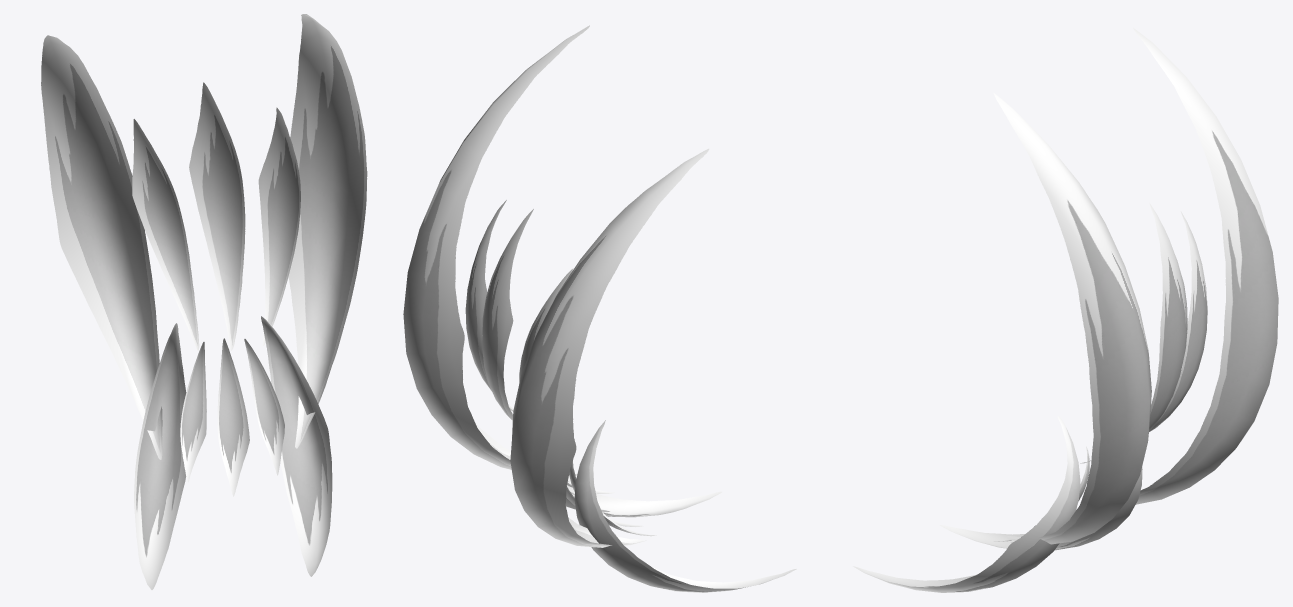
Rendered from fx_m10439_skill01.fbx.
3 views of the same model, side by side, from view 1: azimuth 30°, elevation 25°; view 2: azimuth 150°, elevation 25°; view 3: azimuth 270°, elevation 25° (orthographic).
Parts seen in each view (by area): view 1: trail_alpha_out, trail_alpha, trail_bottom_out_alpha, trail_bottom_alpha; view 2: trail_alpha_out, trail_bottom_out_alpha, trail_alpha, trail_bottom_alpha; view 3: trail_alpha_out, trail_bottom_out_alpha, trail_alpha.
Boxes of the visible parts, x1=… form: trail_alpha_out: x1=41, y1=14, x2=367, y2=459; trail_alpha: x1=132, y1=82, x2=300, y2=350; trail_bottom_out_alpha: x1=134, y1=316, x2=332, y2=589; trail_bottom_alpha: x1=180, y1=338, x2=284, y2=496; trail_alpha_out: x1=403, y1=25, x2=709, y2=547; trail_bottom_out_alpha: x1=565, y1=420, x2=796, y2=592; trail_alpha: x1=465, y1=200, x2=573, y2=420; trail_bottom_alpha: x1=566, y1=461, x2=656, y2=536; trail_alpha_out: x1=993, y1=27, x2=1278, y2=544; trail_bottom_out_alpha: x1=853, y1=416, x2=1142, y2=592; trail_alpha: x1=1080, y1=203, x2=1207, y2=463.
Size of the model in its own units: 120 by 180 by 134.
Materials: 2 (2 with a texture image).
